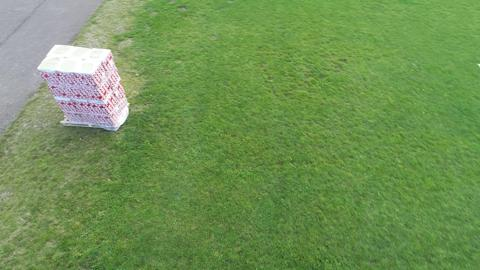RockwoolPallet: (36, 44, 129, 130)
